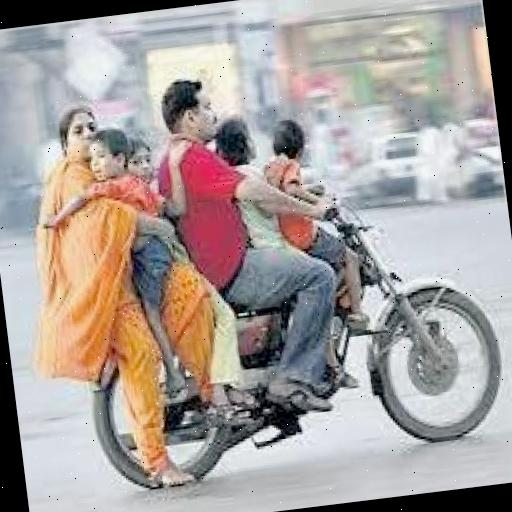no helmet: (153, 66, 244, 168)
triple riding: (10, 33, 512, 500)
